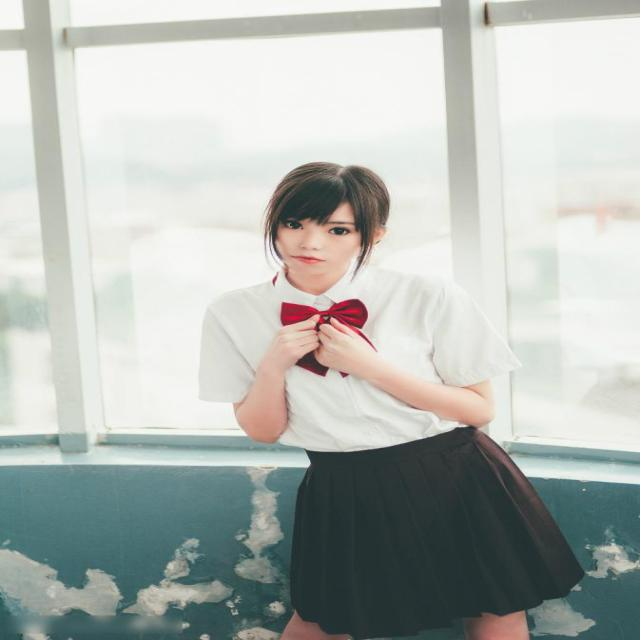obstacle: (188, 145, 590, 640)
